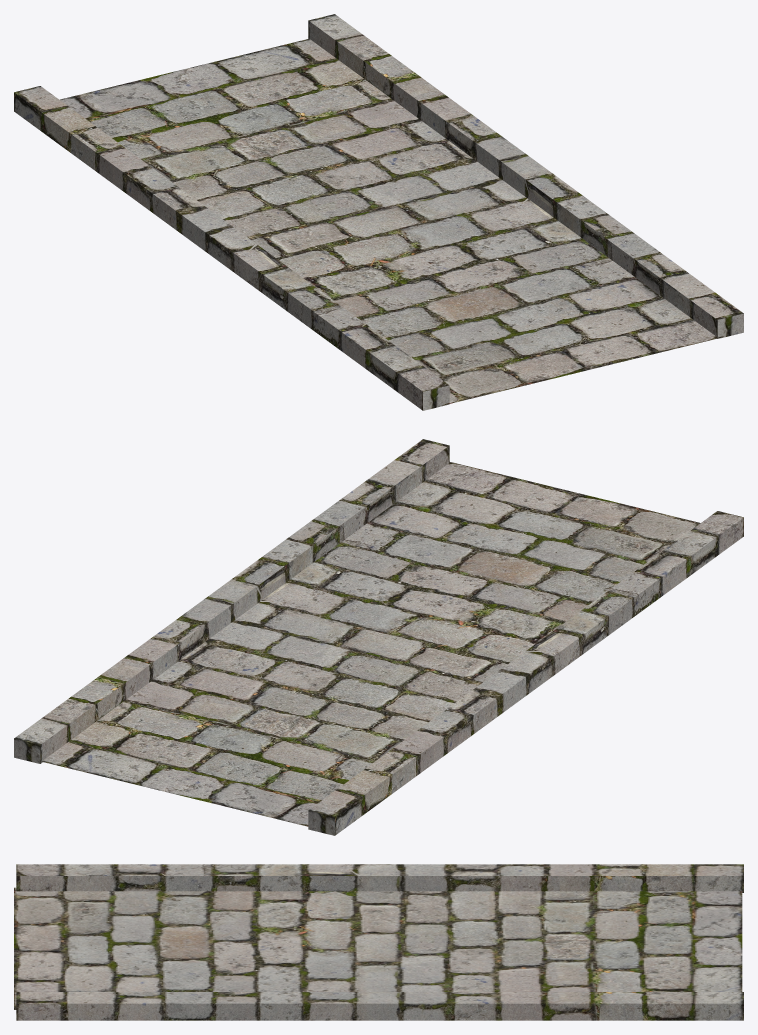
Rendered from Camino.fbx.
3 renders of one model, top to bottom at view 1: azimuth 30°, elevation 25°; view 2: azimuth 150°, elevation 25°; view 3: azimuth 270°, elevation 25°, orthographic. The views are drawn at different scales.
Parts seen in each view (by area): view 1: polySurface3.001; view 2: polySurface3.001; view 3: polySurface3.001.
Part boxes in pixels (bbox=[...]): polySurface3.001: bbox=[14, 14, 743, 410]; polySurface3.001: bbox=[14, 439, 743, 835]; polySurface3.001: bbox=[14, 864, 743, 1020].
Bounding box in the file's own units: 624 × 35.6 × 1382.
